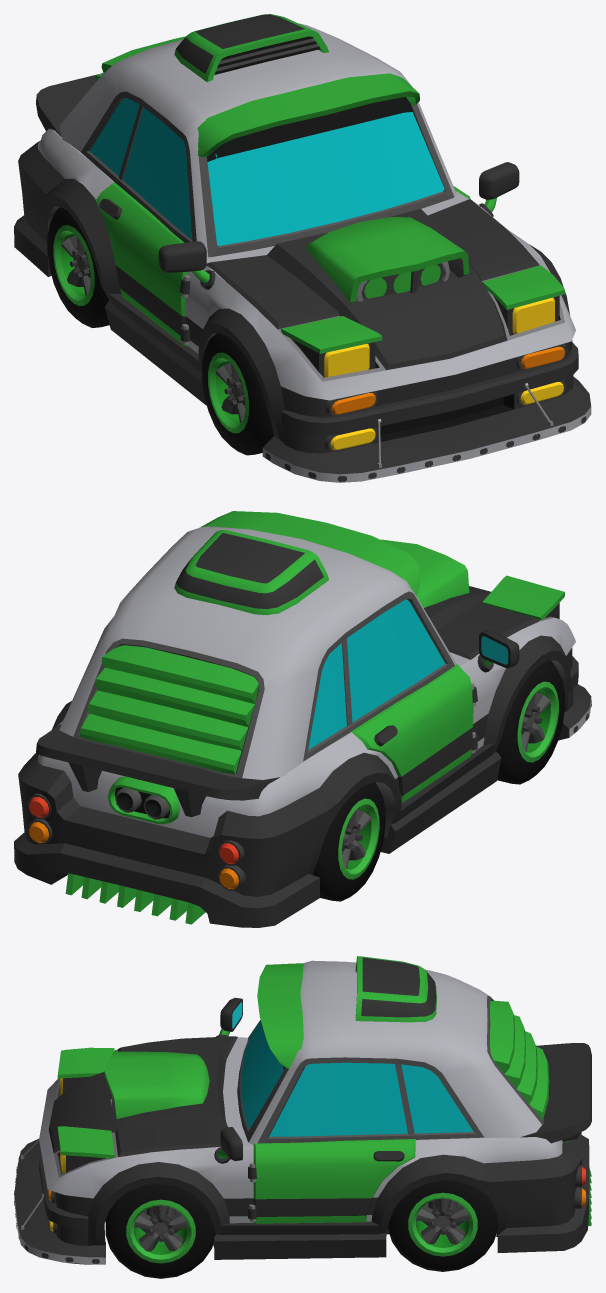
Rendered from VEH14-C.fbx.
The picture shows the model from 3 angles, top to bottom: view 1: azimuth 30°, elevation 25°; view 2: azimuth 150°, elevation 25°; view 3: azimuth 270°, elevation 25°; orthographic projection. The views are drawn at different scales.
Parts seen in each view (by area): view 1: VEH14_C, V14C_Wheel_FR, V14C_Wheel_BR; view 2: VEH14_C, V14C_Wheel_FR, V14C_Wheel_BR; view 3: VEH14_C, V14C_Wheel_FL, V14C_Wheel_BL.
Part boxes in pixels (x1=…): VEH14_C: x1=14, y1=14, x2=591, y2=482; V14C_Wheel_FR: x1=201, y1=333, x2=273, y2=455; V14C_Wheel_BR: x1=47, y1=207, x2=109, y2=327; VEH14_C: x1=14, y1=511, x2=591, y2=927; V14C_Wheel_FR: x1=496, y1=660, x2=564, y2=784; V14C_Wheel_BR: x1=313, y1=782, x2=385, y2=901; VEH14_C: x1=14, y1=956, x2=591, y2=1264; V14C_Wheel_FL: x1=105, y1=1184, x2=215, y2=1278; V14C_Wheel_BL: x1=387, y1=1180, x2=498, y2=1271.
Size of the model in its own units: 270 by 210 by 448.
1 material, 1 textured.
